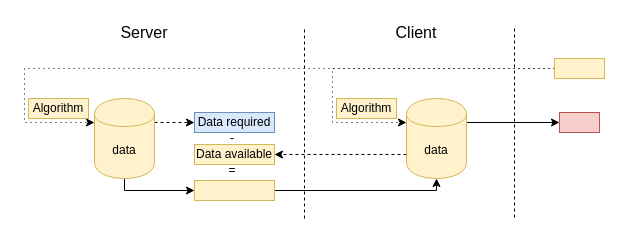
Some shapes in this 622 by 237 pixel diagram are drawn without their labels. The centre of each missing label's shape, as x and y in pixels:
"Data missing" goes at point 234,190.
"Query" goes at point 579,68.
"Result" goes at point 579,122.
